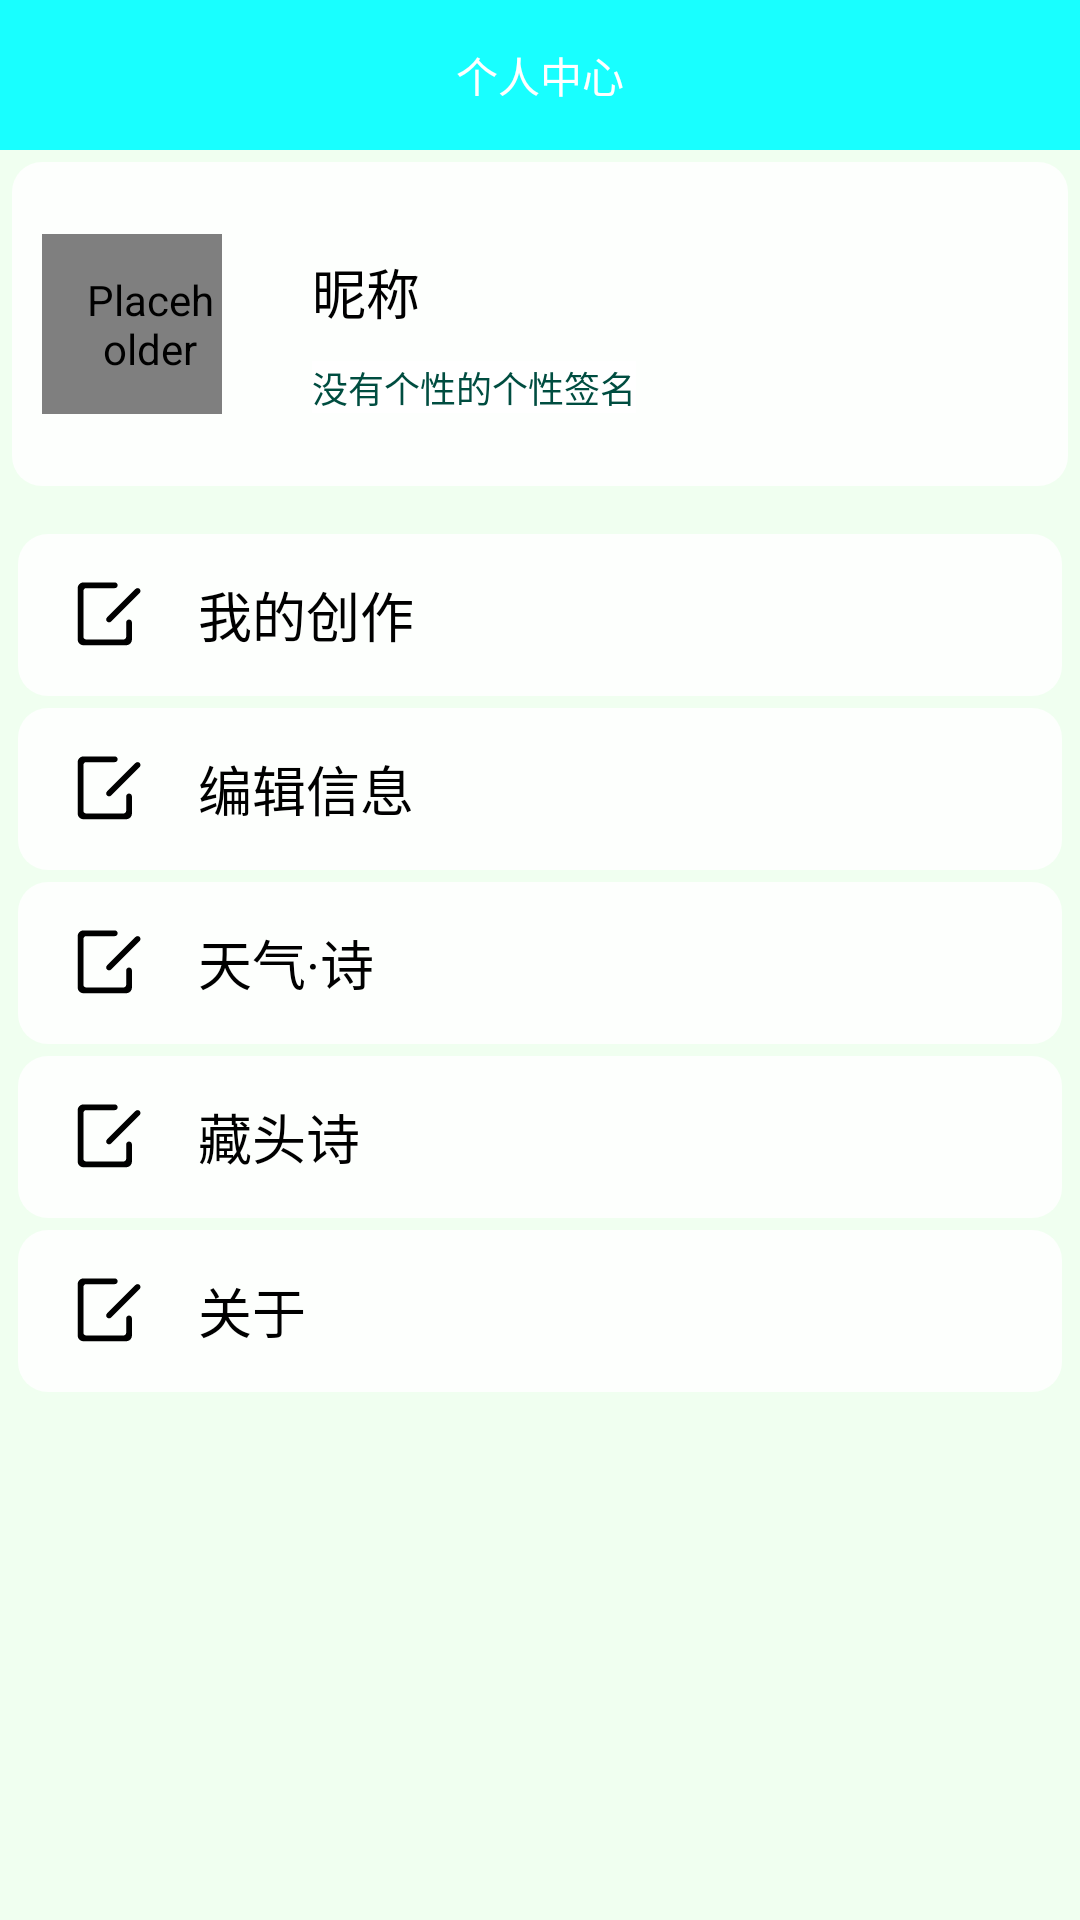

Icon click points for this 1080 x 1920 phone screenshot, format (x,y):
bian: (109,614), (109,788), (109,962), (109,1136), (109,1310)
